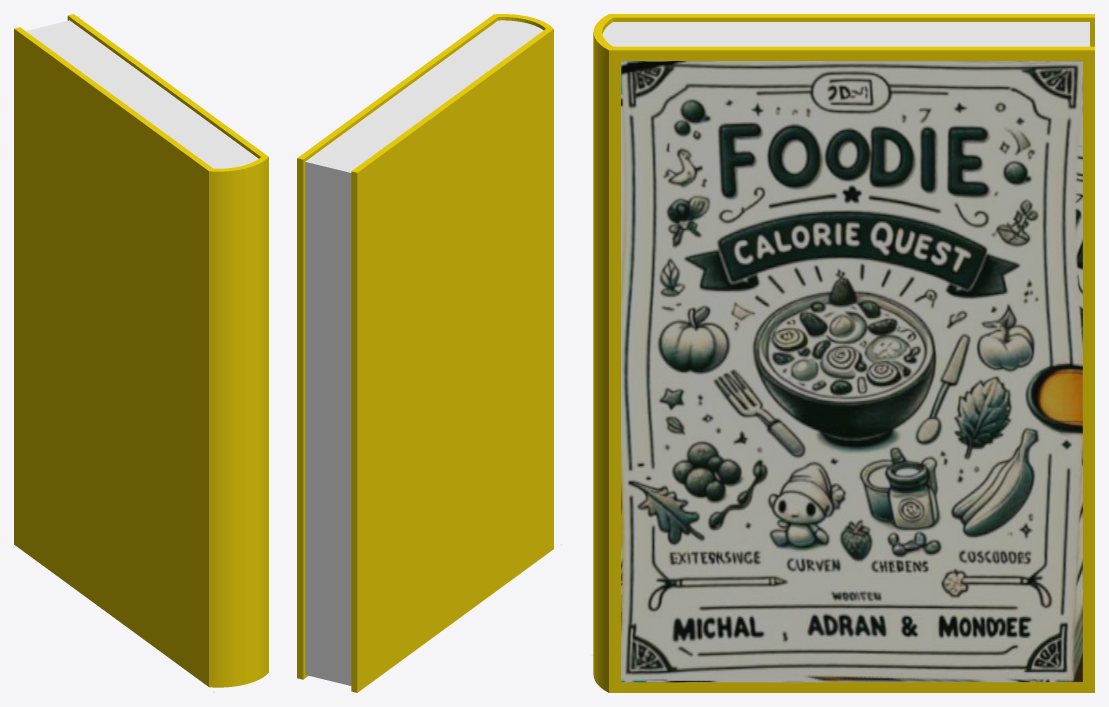
Rendered from Book-FoodieCalQuest.glb.
3 views of the same model, side by side, from view 1: azimuth 30°, elevation 25°; view 2: azimuth 150°, elevation 25°; view 3: azimuth 270°, elevation 25° (orthographic). The views are drawn at different scales.
Parts seen in each view (by area): view 1: Book-skp; view 2: Book-skp; view 3: Book-skp.
Boxes of the visible parts, left/top/right/bottom form: Book-skp: left=14, top=14, right=268, bottom=687; Book-skp: left=297, top=14, right=553, bottom=692; Book-skp: left=593, top=14, right=1094, bottom=692.
Bounding box in the file's own units: 37 × 297 × 211.
3 materials, 1 textured.
